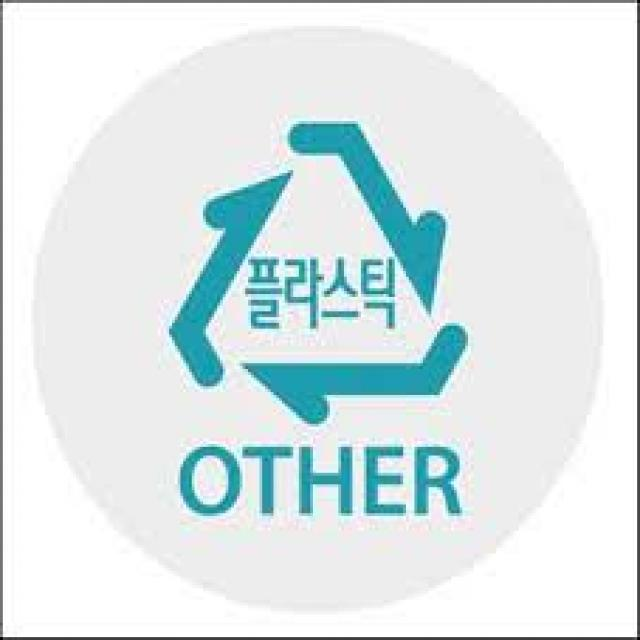Plastic: (154, 103, 482, 429)
